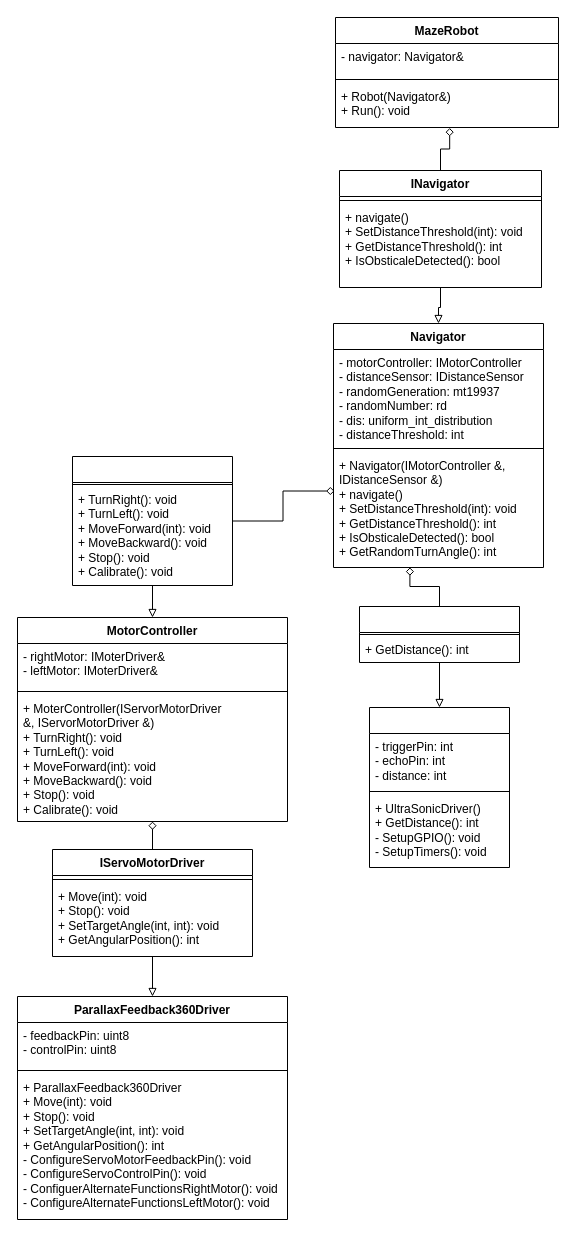
Image size: 576x1240. Some labels were removed from this diagram. Here are the shapes that lost their labels. From the top down, the box of each, then its label:
(72, 456, 232, 586): IMotorController
(358, 606, 520, 662): IDistanceSensor
(368, 706, 510, 868): HCSR04Driver
